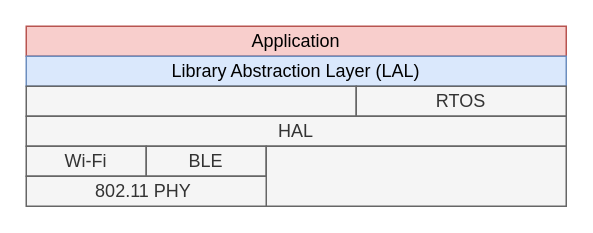
This 593x233 diagram has some shape labels left out. The shapes that lost their labels are listed below. From the top down, each one's box as (x1, y1, x2, y2) in pixels, then its label:
(25, 85, 356, 116): Platform SDK
(265, 145, 566, 206): IO PERIPHERALS
